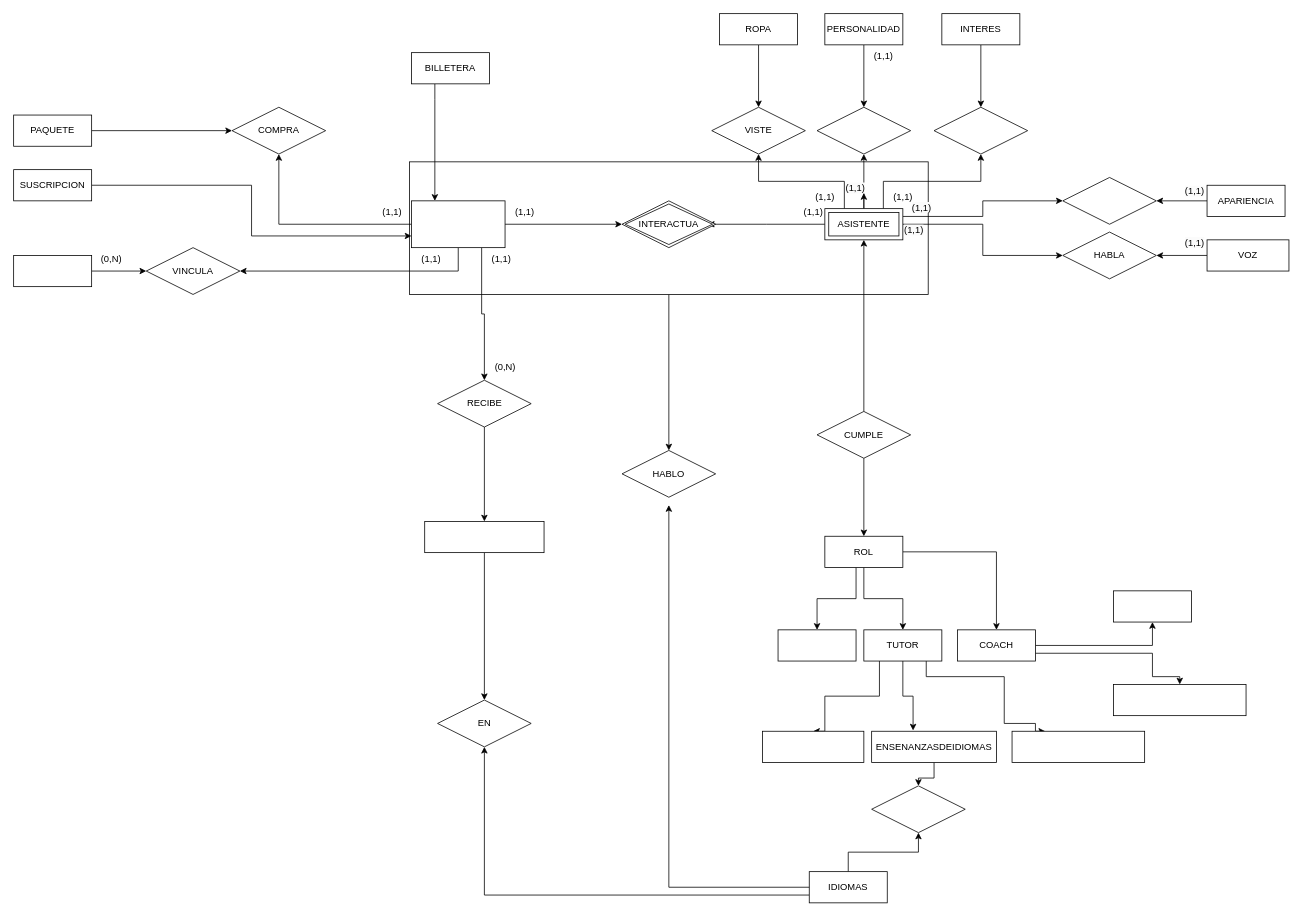
Image size: 1303x916. Some labels were removed from this diagram. Each missing label, with the centre of its shape:
"ACTUA" belongs at (x=863, y=130).
"AMIGO" belongs at (x=816, y=645).
"APARECE" belongs at (x=1109, y=200).
"APLICACION" belongs at (x=52, y=271).
"APOYOEDUCATIVO" belongs at (x=813, y=746).
"CERTIFICADODELOGRO" belongs at (x=484, y=537).
"ENSENA" belongs at (x=918, y=809).
"ORGANIZACIONDETIEMPO" belongs at (x=1179, y=700).
"PLANIFICACION" belongs at (x=1152, y=606).
"PREPARACIONDEEXAMEN" belongs at (x=1078, y=746).
"TIENE" belongs at (x=980, y=130).
"USUARIO" belongs at (x=458, y=224).
